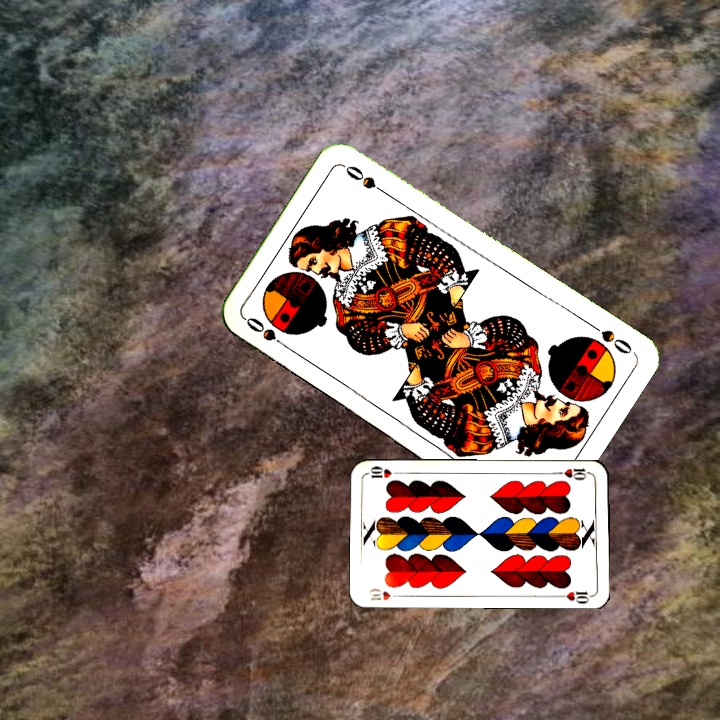H10: (553, 464, 594, 483), (367, 587, 405, 603)
SO: (241, 313, 293, 353), (584, 318, 637, 357)
